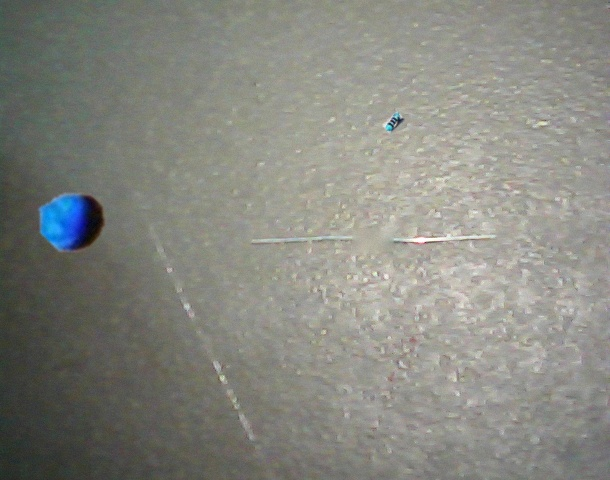capacitor: (39, 193, 105, 251)
resistor: (382, 112, 404, 133)
